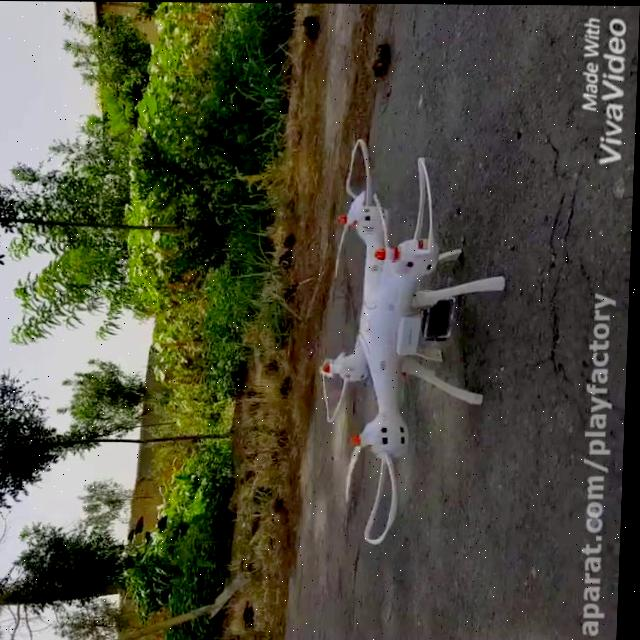drone: (317, 136, 510, 548)
